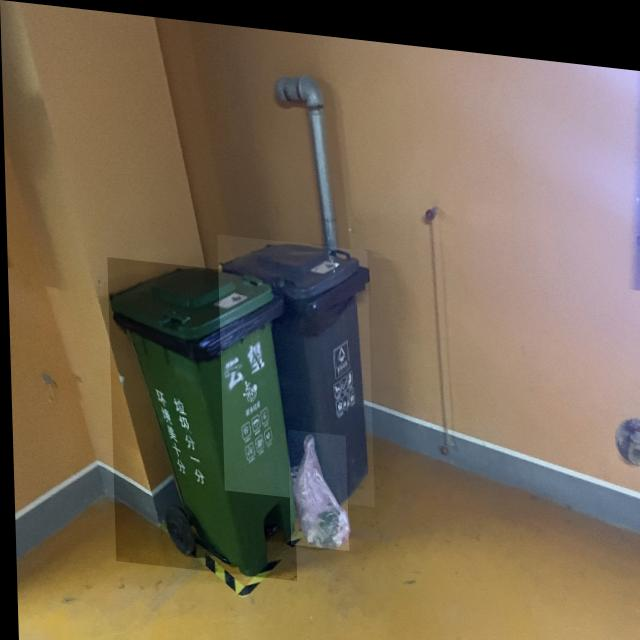garbage: (286, 423, 346, 543)
garbage_bin: (106, 255, 294, 575), (216, 229, 372, 499)
